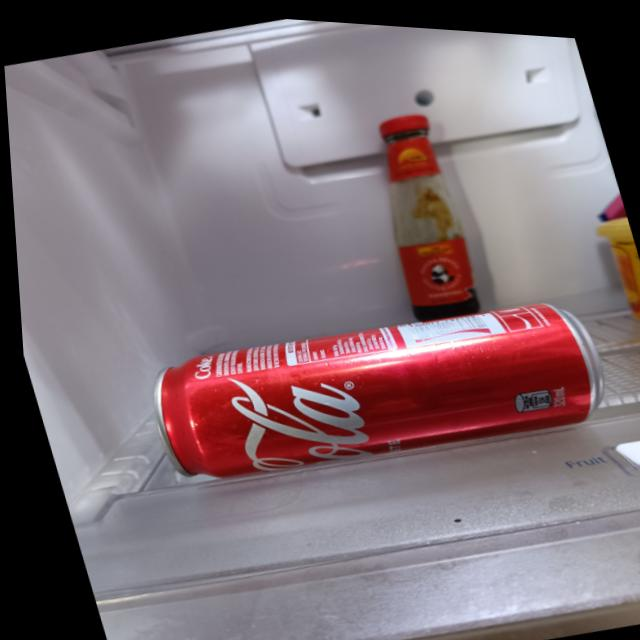coke: (127, 256, 615, 519)
